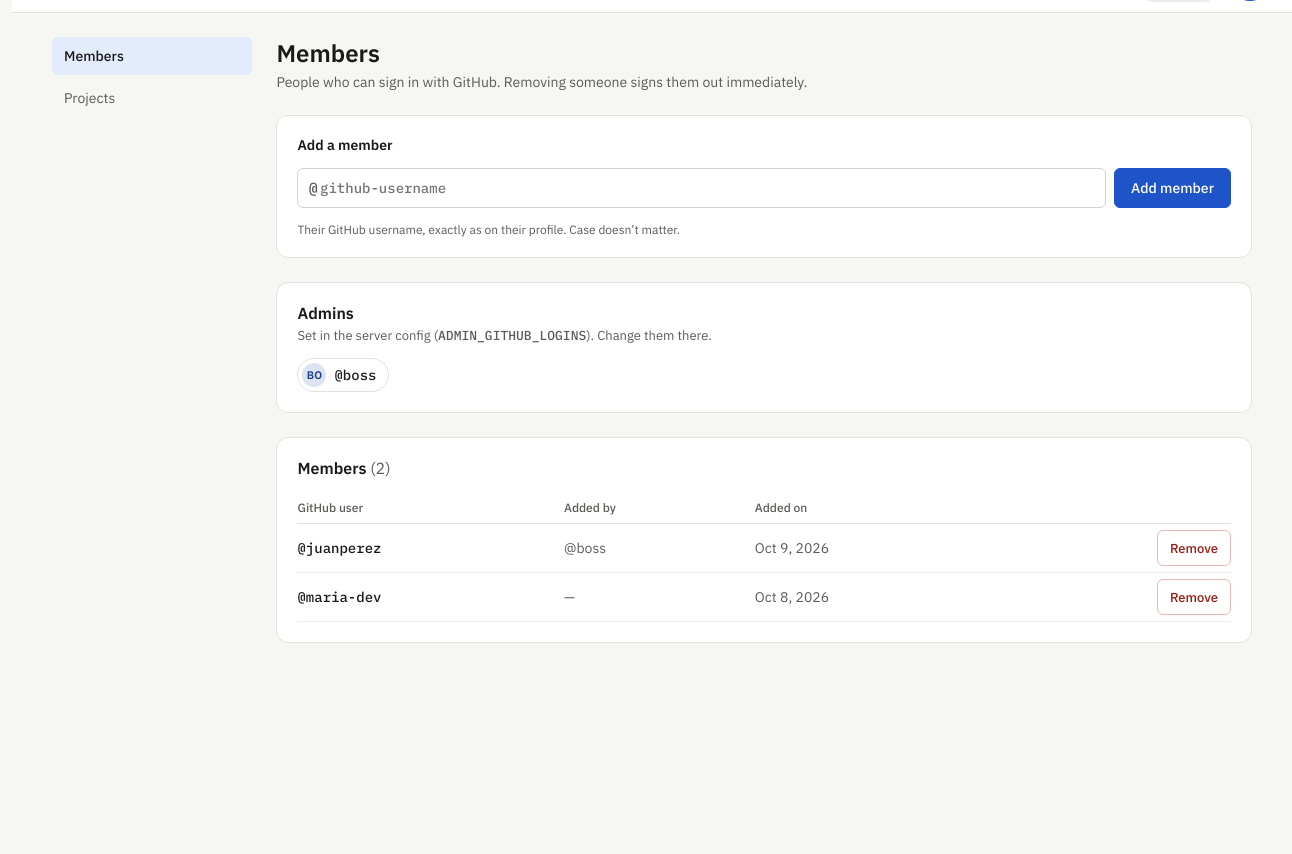
it: Admin layout › switches to Projects
This screenshot has width=1292, height=854.
Click the link "Projects": click(90, 98) [64,89,115,107]
(page scrolled)
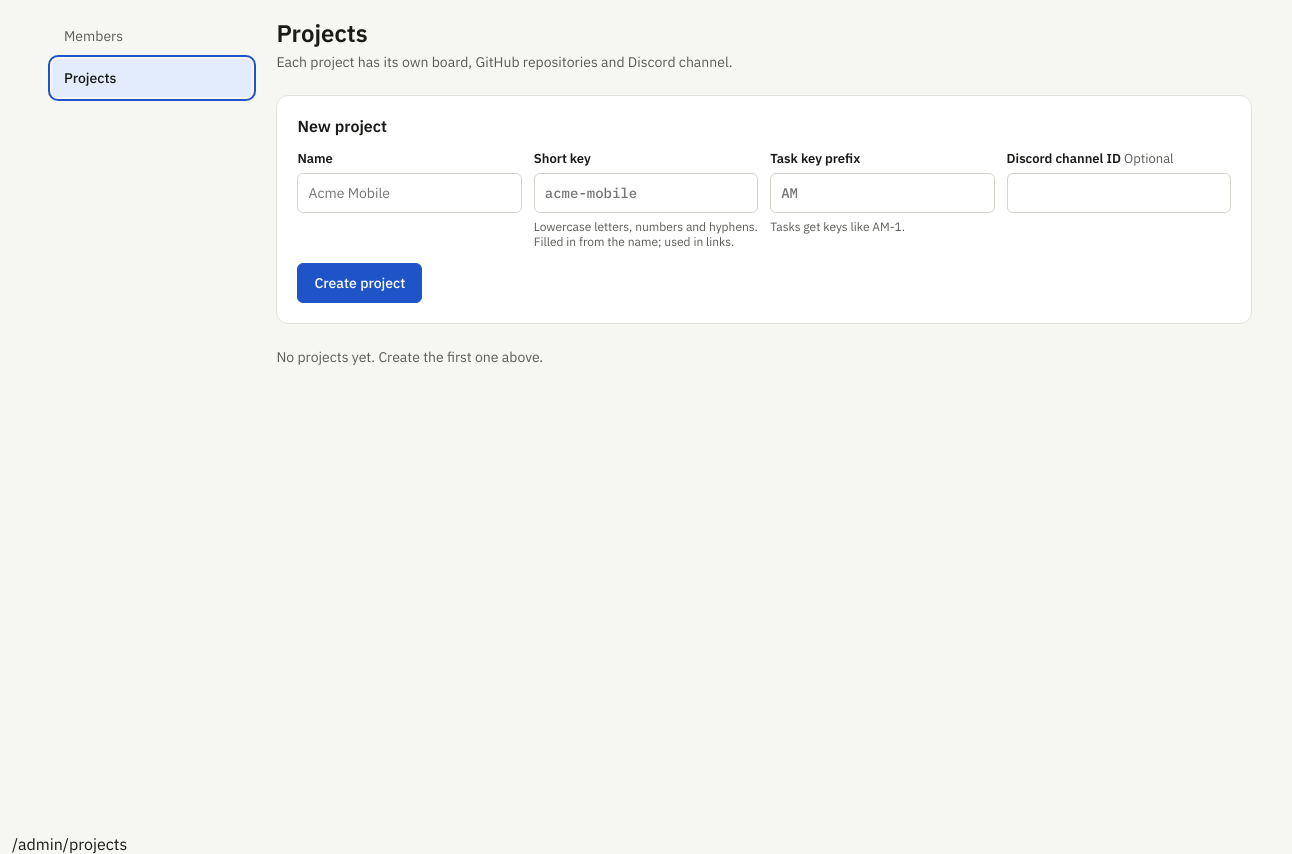
Expected: the heading "Projects" is shown, [276,17,368,49]
Expected: the text with test id "location" reads "/admin/projects", [12,834,127,853]
